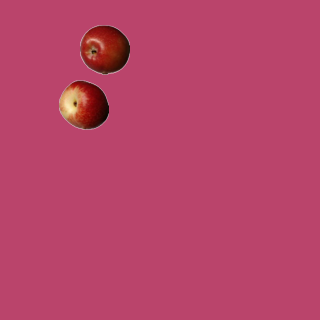Apple Braeburn: (79, 24, 129, 74)
Nectarine: (58, 79, 108, 129)
